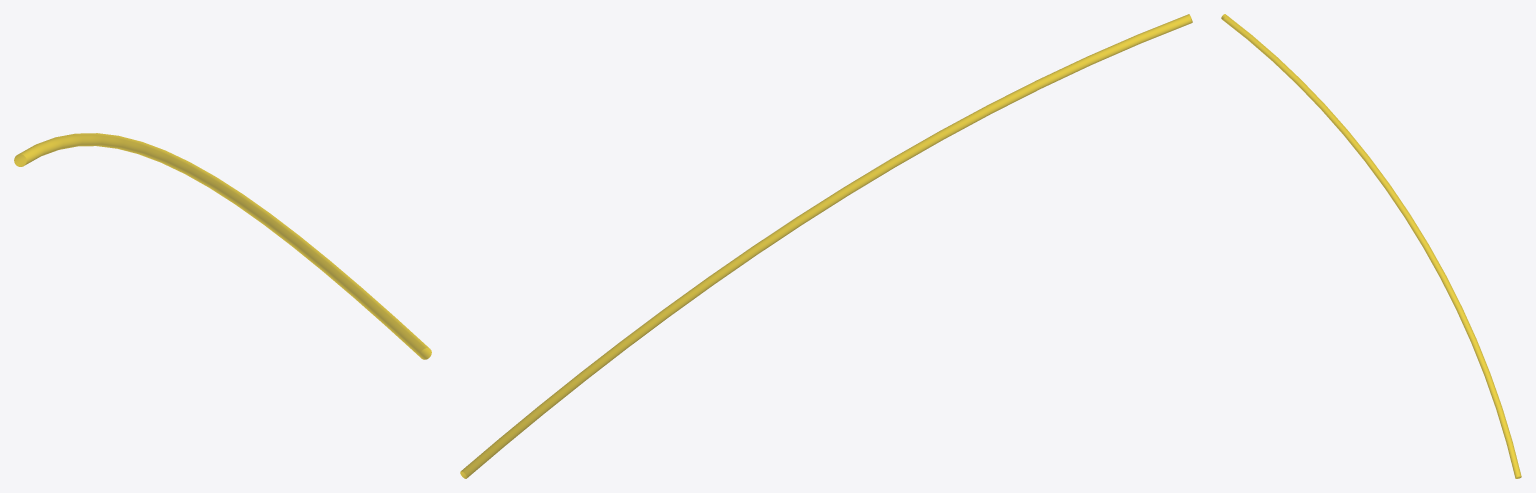
The model's file is Event_402970704_track_1.fbx.
3 views of the same model, side by side, from view 1: azimuth 30°, elevation 25°; view 2: azimuth 150°, elevation 25°; view 3: azimuth 270°, elevation 25° (orthographic). The views are drawn at different scales.
Visible parts, largest first — view 1: Model; view 2: Model; view 3: Model.
Part boxes in pixels (bbox=[...]): Model: bbox=[14, 133, 431, 359]; Model: bbox=[460, 14, 1192, 478]; Model: bbox=[1221, 14, 1521, 478].
Size of the model in its own units: 2.51 by 2 by 1.84.
